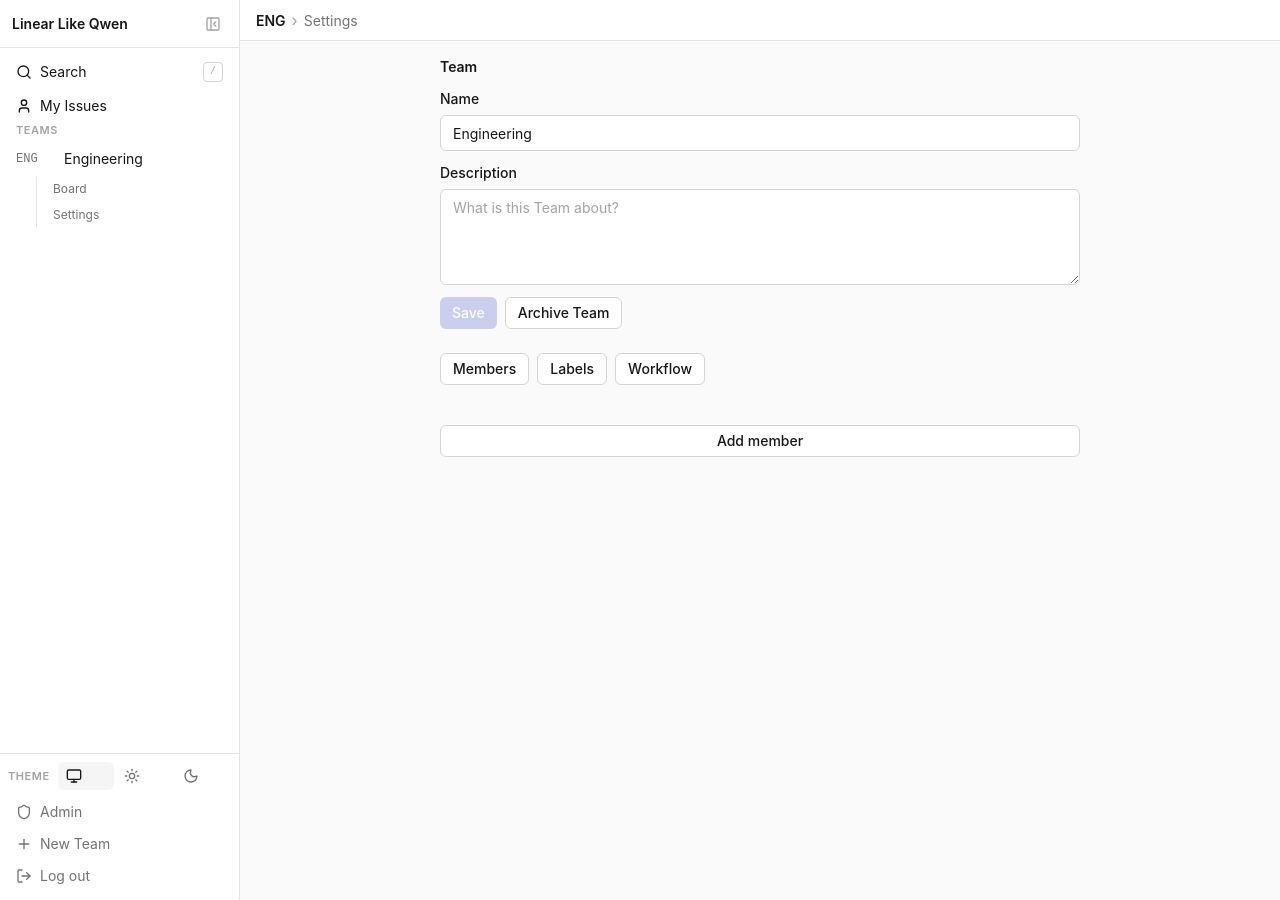
Scenario: TeamSettings › lists the Workflow States with their Issue counts
Step 1. Click the button "Workflow" → (660,369), box top-left (615, 353), bottom-right (705, 385)
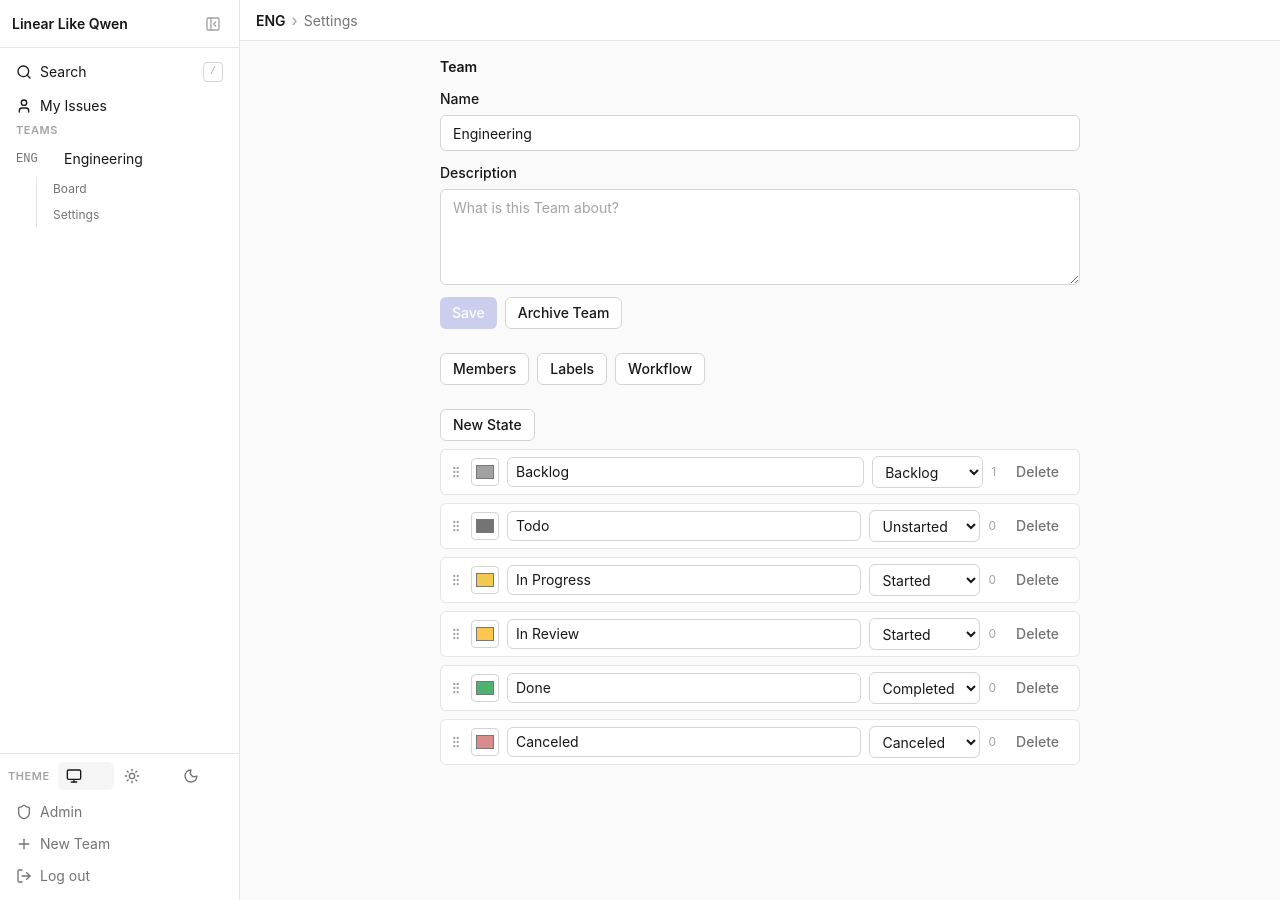
Expected: the field named "Name for Backlog" is shown, top-left (507, 457), bottom-right (864, 487)
Expected: the field named "Name for Done" is shown, top-left (507, 673), bottom-right (862, 703)
Expected: the text "1" is shown, top-left (991, 464), bottom-right (996, 480)
